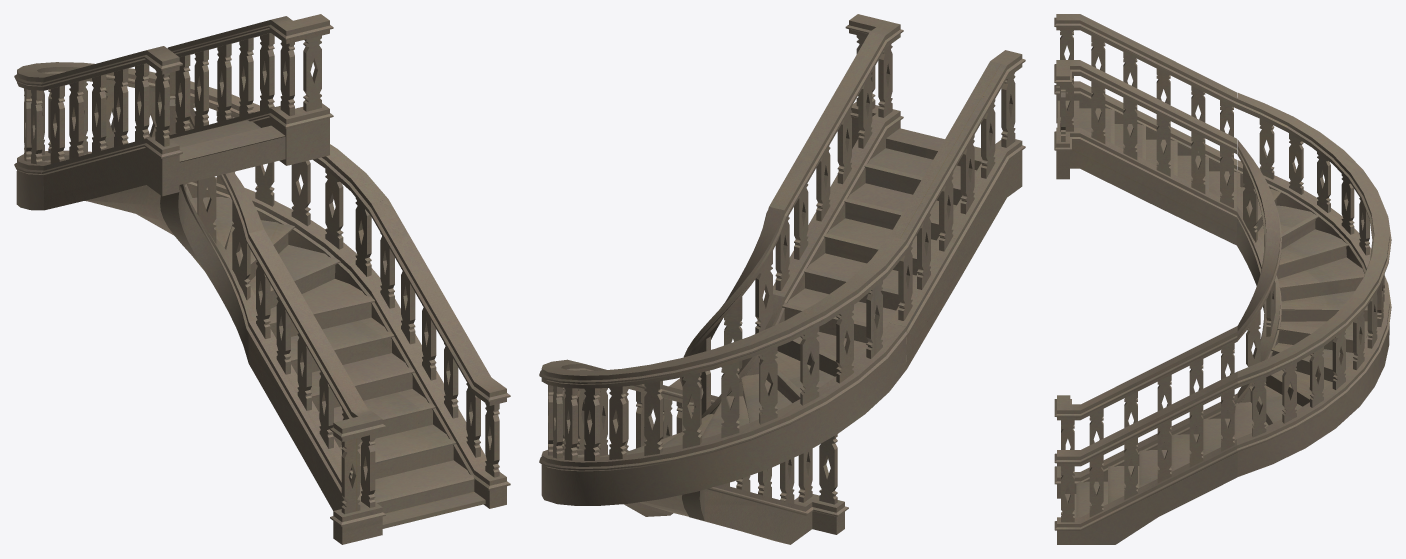
Rendered from SK5 STAIR INT.fbx.
3 renders of one model, left to right at view 1: azimuth 30°, elevation 25°; view 2: azimuth 150°, elevation 25°; view 3: azimuth 270°, elevation 25°, orthographic. The views are drawn at different scales.
Parts seen in each view (by area): view 1: SK5 STAIR INT; view 2: SK5 STAIR INT; view 3: SK5 STAIR INT.
Boxes of the visible parts, x1,y1,x2,y2 form: SK5 STAIR INT: (14, 14, 510, 544); SK5 STAIR INT: (539, 14, 1025, 544); SK5 STAIR INT: (1054, 14, 1391, 544).
Size of the model in its own units: 355 by 513 by 389.
